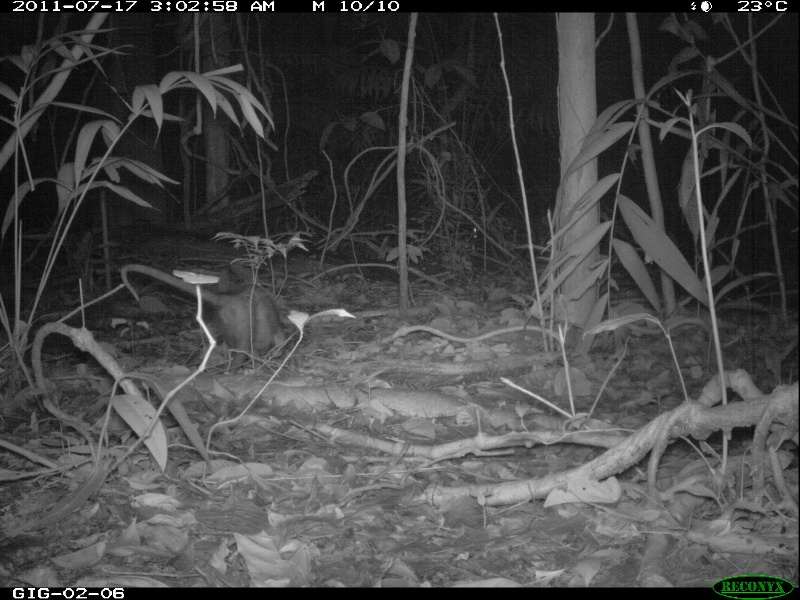opossum: (116, 254, 294, 378)
